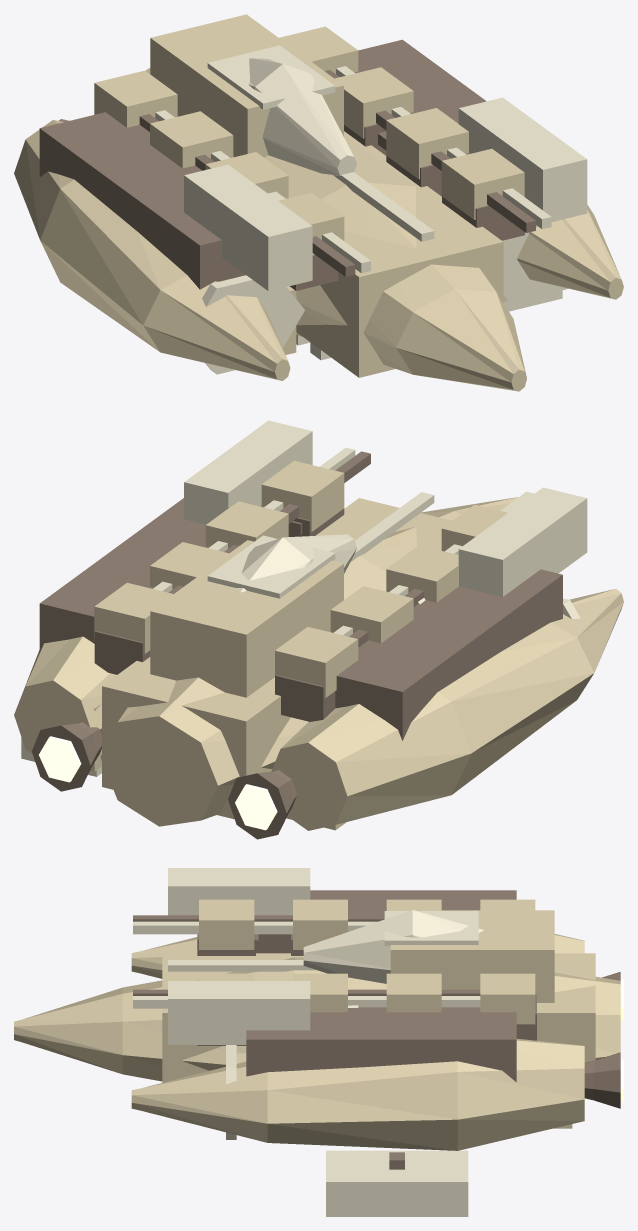
The picture shows the model from 3 angles, top to bottom: view 1: azimuth 30°, elevation 25°; view 2: azimuth 150°, elevation 25°; view 3: azimuth 270°, elevation 25°; orthographic projection. The views are drawn at different scales.
Bounding box in the file's own units: 15.09 × 8.03 × 20.83.
